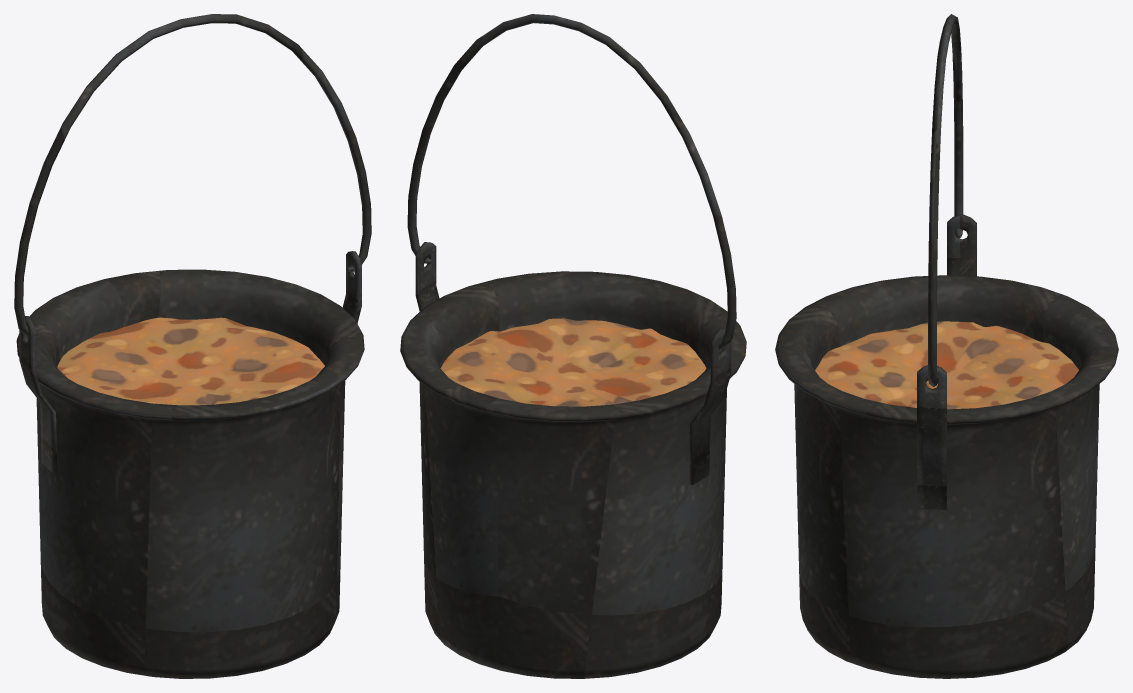
File: LP_Cauldron.glb
The picture shows the model from 3 angles, left to right: view 1: azimuth 30°, elevation 25°; view 2: azimuth 150°, elevation 25°; view 3: azimuth 270°, elevation 25°; orthographic projection.
Parts seen in each view (by area): view 1: LP_Cauldron; view 2: LP_Cauldron; view 3: LP_Cauldron.
Part boxes in pixels (x1=…): LP_Cauldron: x1=14, y1=14, x2=371, y2=678; LP_Cauldron: x1=400, y1=14, x2=746, y2=678; LP_Cauldron: x1=775, y1=14, x2=1118, y2=678.
Size of the model in its own units: 0.7852 by 1.31 by 0.6897.
2 materials, 2 textured.
